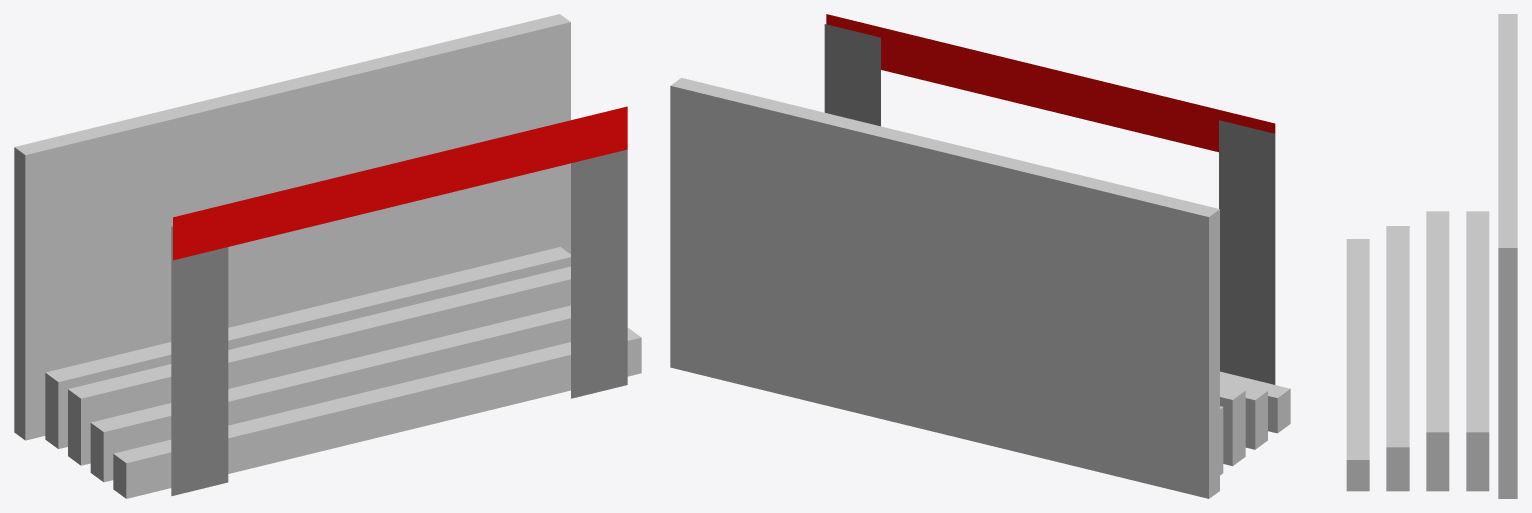
Rendered from 06_o-Tesuto-Stage.FBX.
3 views of the same model, side by side, from view 1: azimuth 30°, elevation 25°; view 2: azimuth 150°, elevation 25°; view 3: azimuth 270°, elevation 25° (orthographic). The views are drawn at different scales.
Parts seen in each view (by area): view 1: BackGround, FrontLane, 03Curtain, 02BackLane, CenterLane, 01Curtain, 02Curtain, 01BackLane; view 2: BackGround, 03Curtain, 01Curtain, 02Curtain, 02BackLane, CenterLane, FrontLane; view 3: BackGround, 01BackLane, 02BackLane, CenterLane, FrontLane.
Boxes of the visible parts, <box> form: BackGround: <box>14,14,570,440</box>; FrontLane: <box>113,328,641,498</box>; 03Curtain: <box>173,106,627,260</box>; 02BackLane: <box>68,266,570,465</box>; CenterLane: <box>90,305,570,482</box>; 01Curtain: <box>171,226,228,496</box>; 02Curtain: <box>571,149,627,398</box>; 01BackLane: <box>45,247,570,448</box>; BackGround: <box>670,78,1219,498</box>; 03Curtain: <box>826,14,1275,152</box>; 01Curtain: <box>1219,120,1275,384</box>; 02Curtain: <box>824,24,880,126</box>; 02BackLane: <box>1220,384,1245,466</box>; CenterLane: <box>1220,379,1267,449</box>; FrontLane: <box>1220,371,1290,433</box>; BackGround: <box>1498,14,1517,498</box>; 01BackLane: <box>1466,211,1489,491</box>; 02BackLane: <box>1426,211,1449,491</box>; CenterLane: <box>1386,226,1409,491</box>; FrontLane: <box>1346,239,1369,491</box>.
Bounding box in the file's own units: 1417 × 711 × 508.
